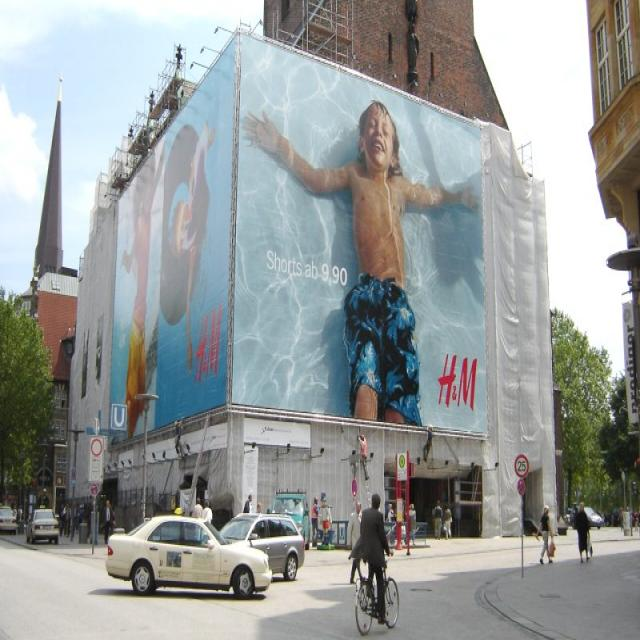Werbetafel frei: (230, 29, 491, 441), (108, 28, 238, 444)
